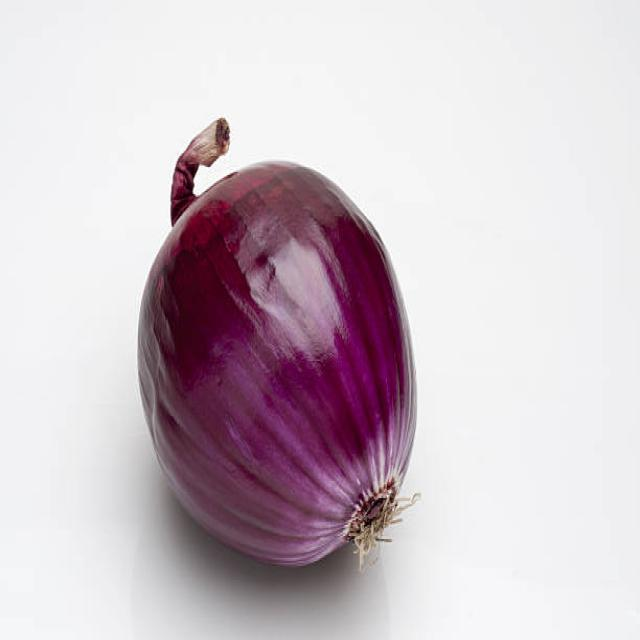onion: (126, 142, 425, 575)
